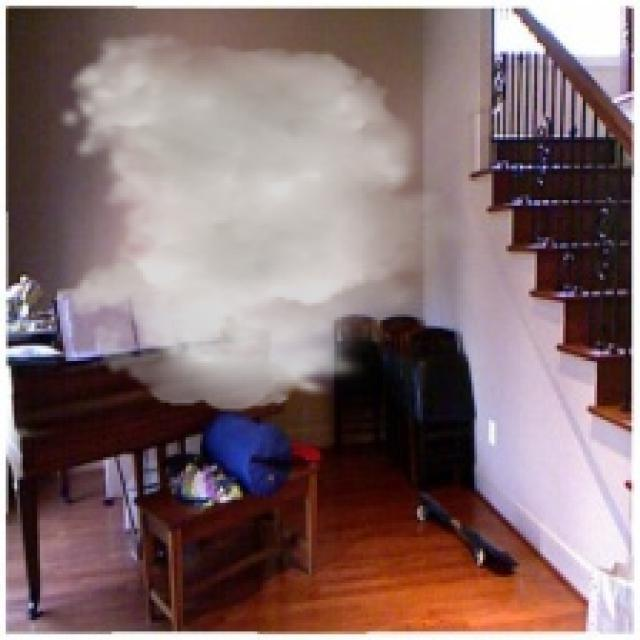Smoke: (57, 31, 472, 412)
